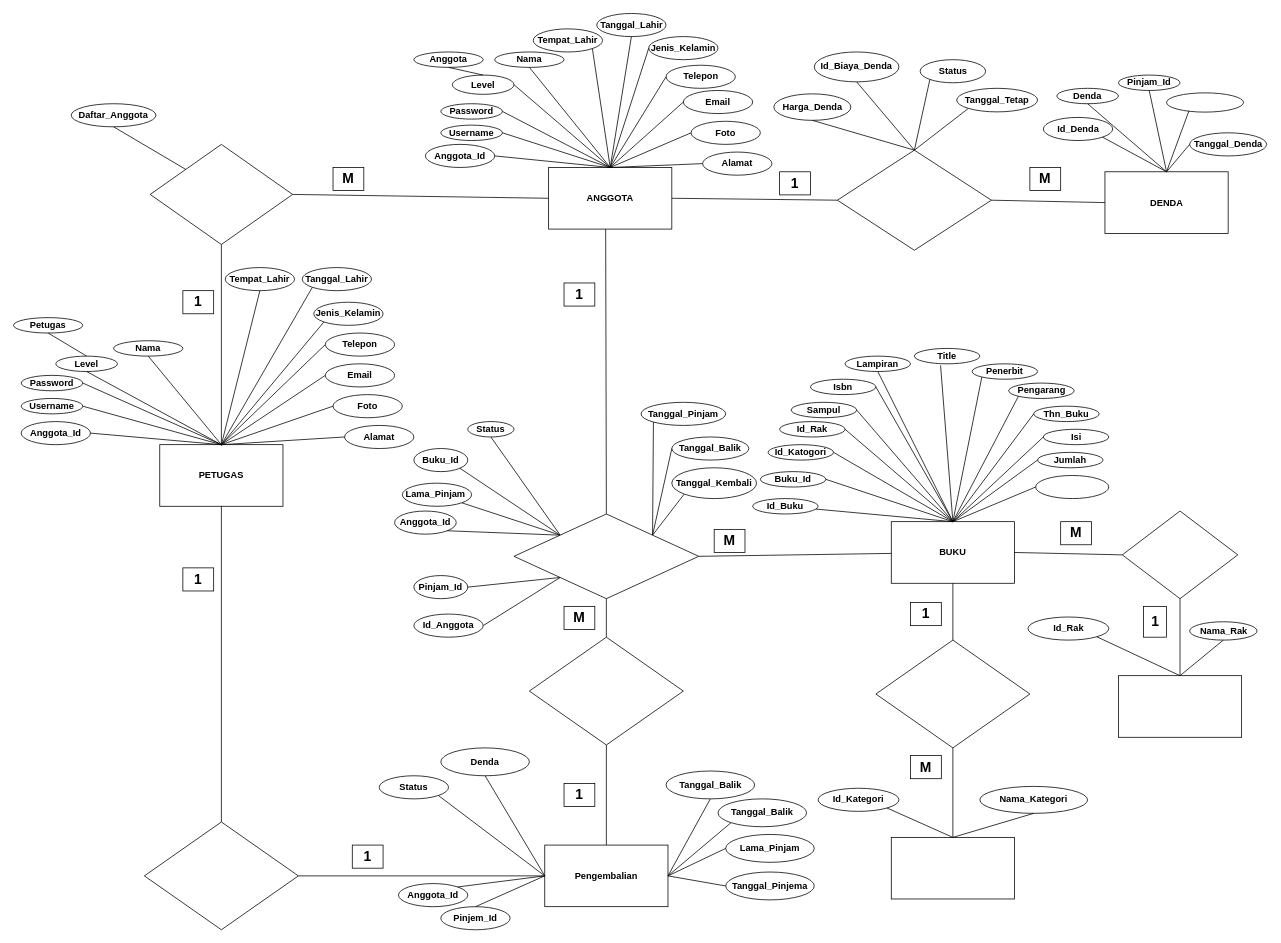
Some shapes in this 1281 by 943 pixel diagram are drawn without their labels. Each missing label, with the centre of its shape:
"KATEGORI" belongs at (x=952, y=868).
"Lama_Waktu" belongs at (x=1205, y=102).
"Melayani" belongs at (x=221, y=194).
"MEMBAYAR" belongs at (x=914, y=199).
"Memiliki" belongs at (x=952, y=693).
"Memuat" belongs at (x=1180, y=554).
"Mengelola" belongs at (x=221, y=875).
"Menghasilkan" belongs at (x=606, y=690).
"Peminjaman" belongs at (x=606, y=556).
"RAK" belongs at (x=1180, y=706).
"Tanggal_Masuk" belongs at (x=1072, y=487).
